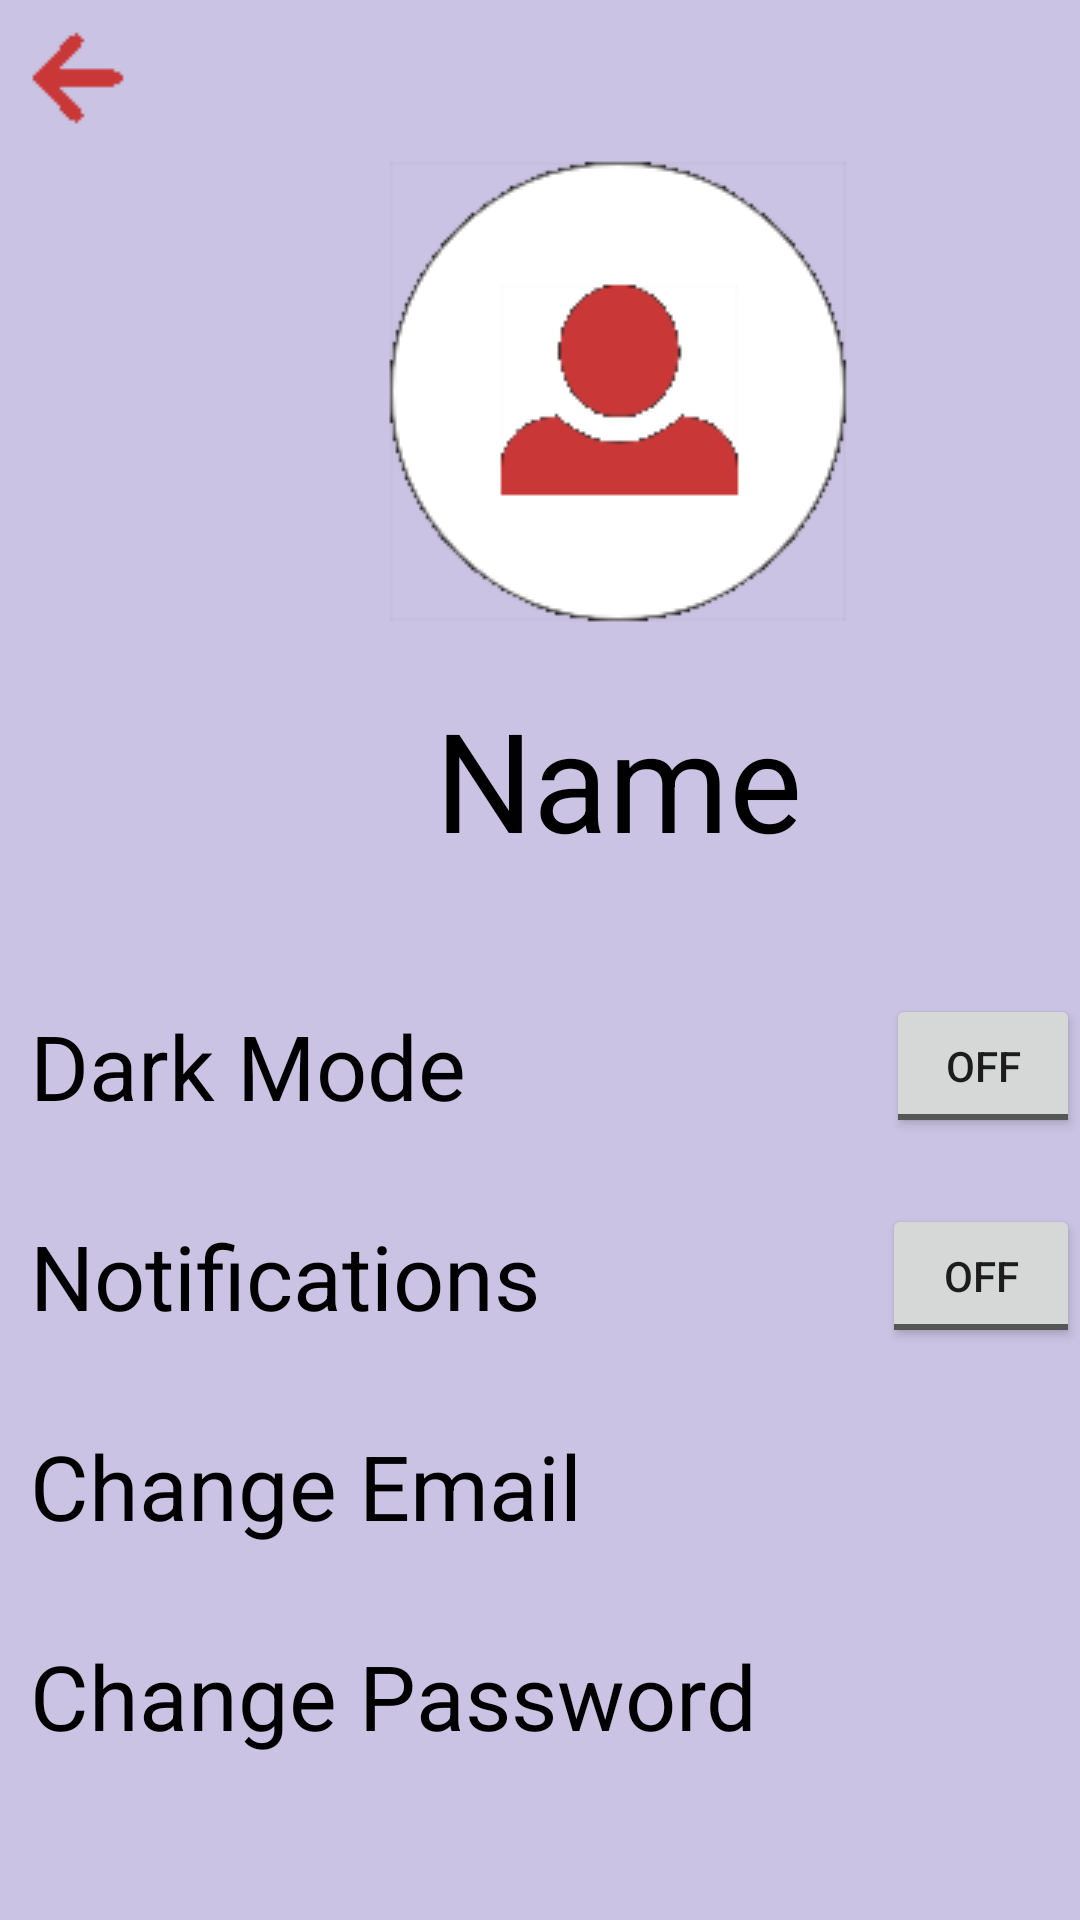

Icons on this 1080px x 1920px Android screen, each with the point to tap as (x,y):
leftarrow: (78,78)
